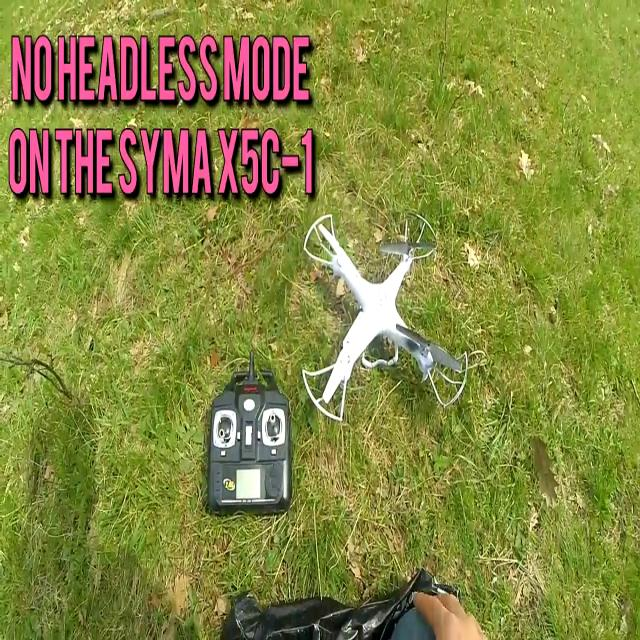drones: (295, 209, 468, 422)
